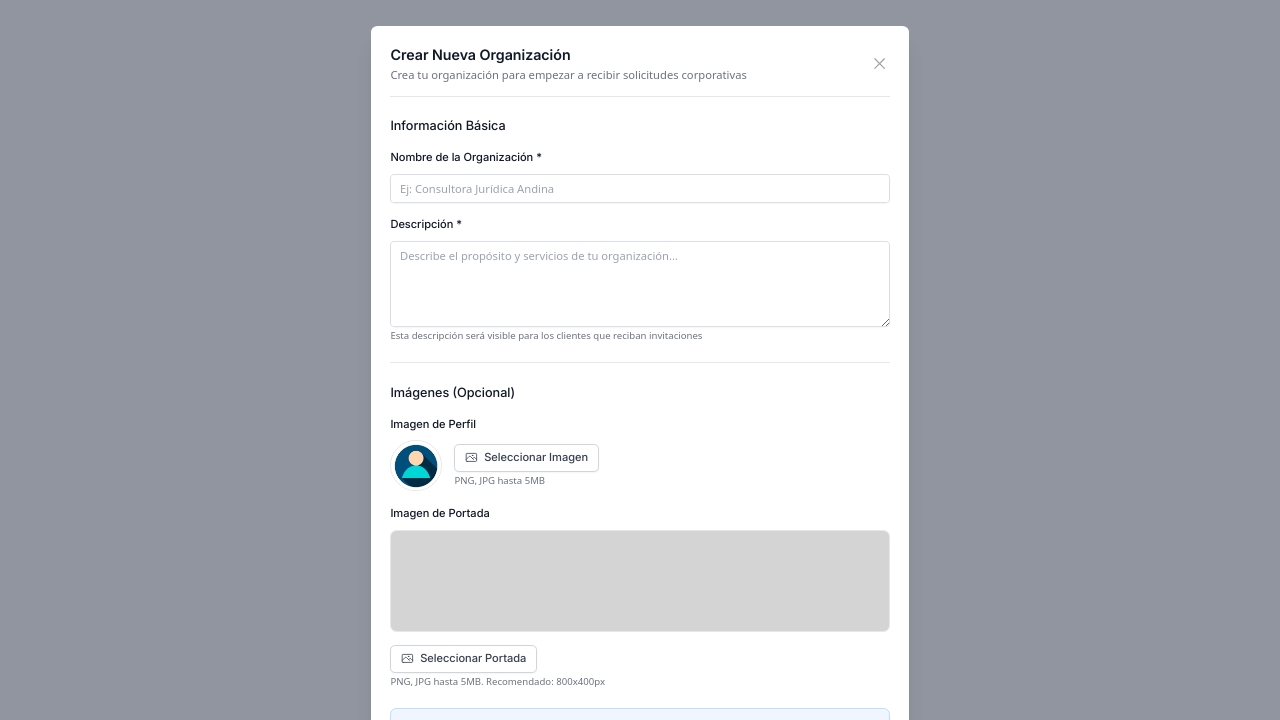
Test: CreateOrganizationModal.vue › submit is disabled until title and description are provided
Type "  Org  " into the field with id "title".
click(640, 188); type("  Org  ")  # box [390,174,890,202]
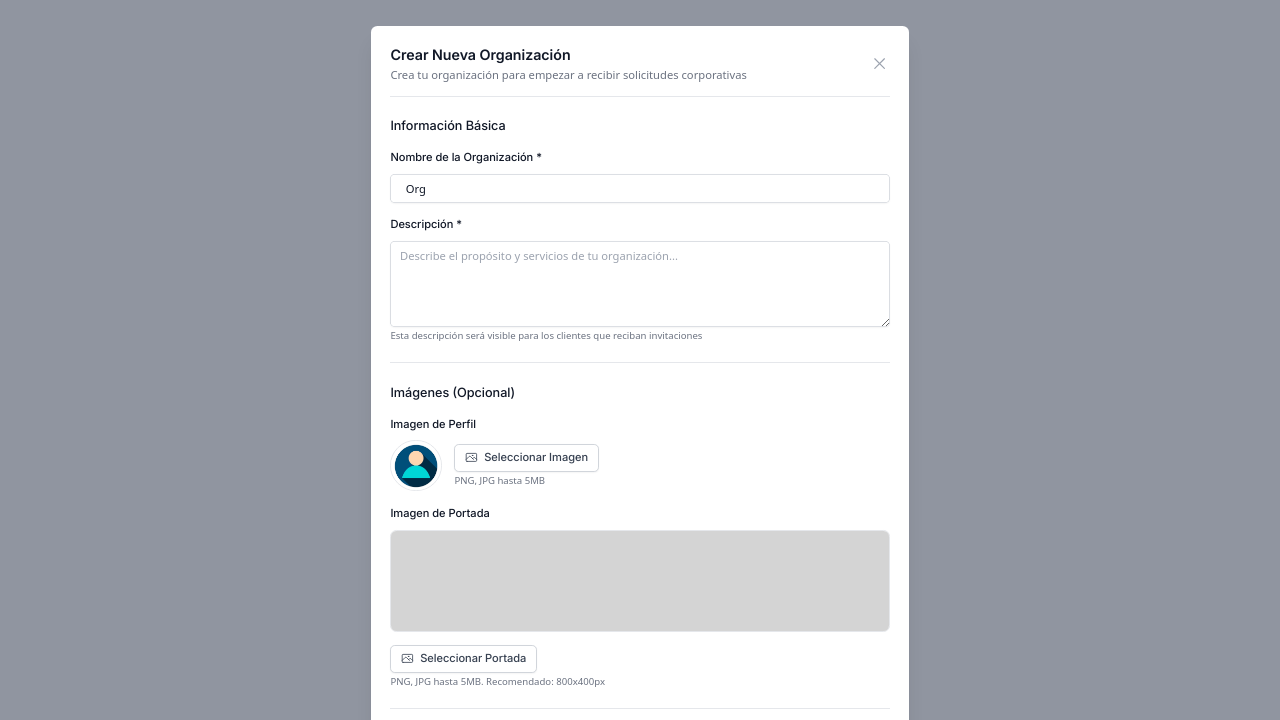
Type "  Desc  " into the text box with id "description".
click(640, 284); type("  Desc  ")  # box [390,241,890,327]
(page scrolled)
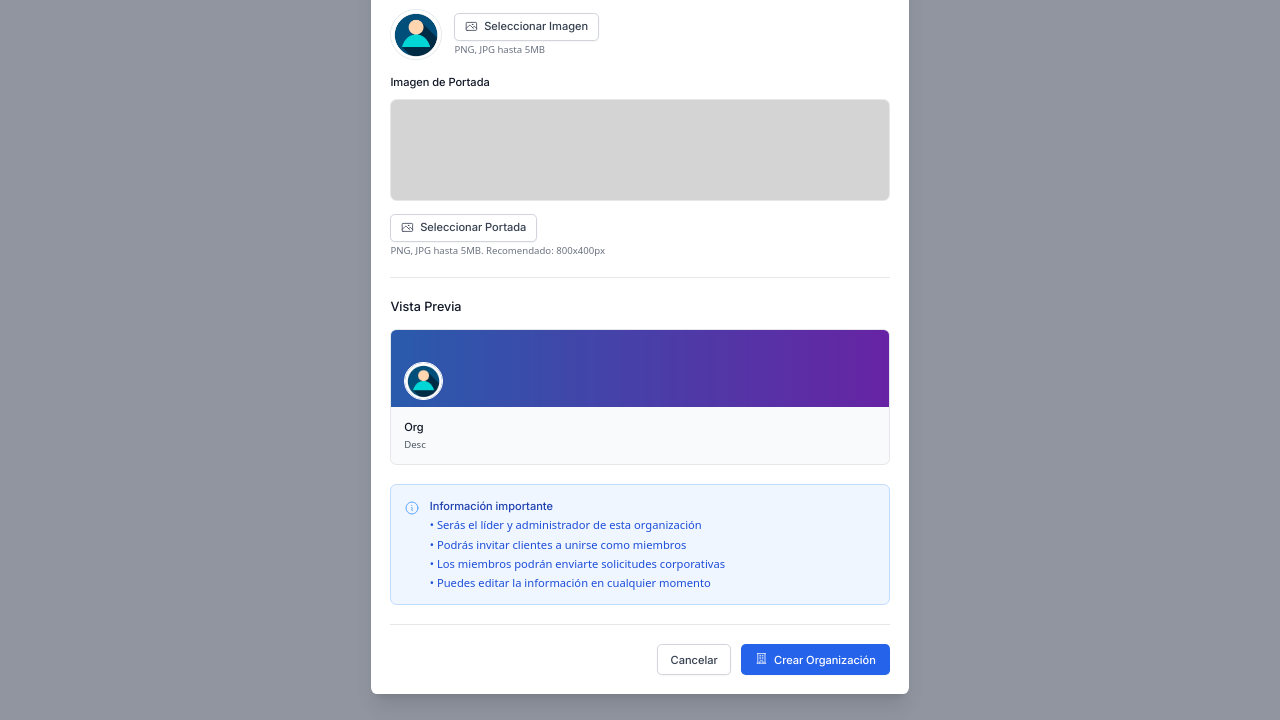
Now the submit button is enabled, box [741,644,890,675]
